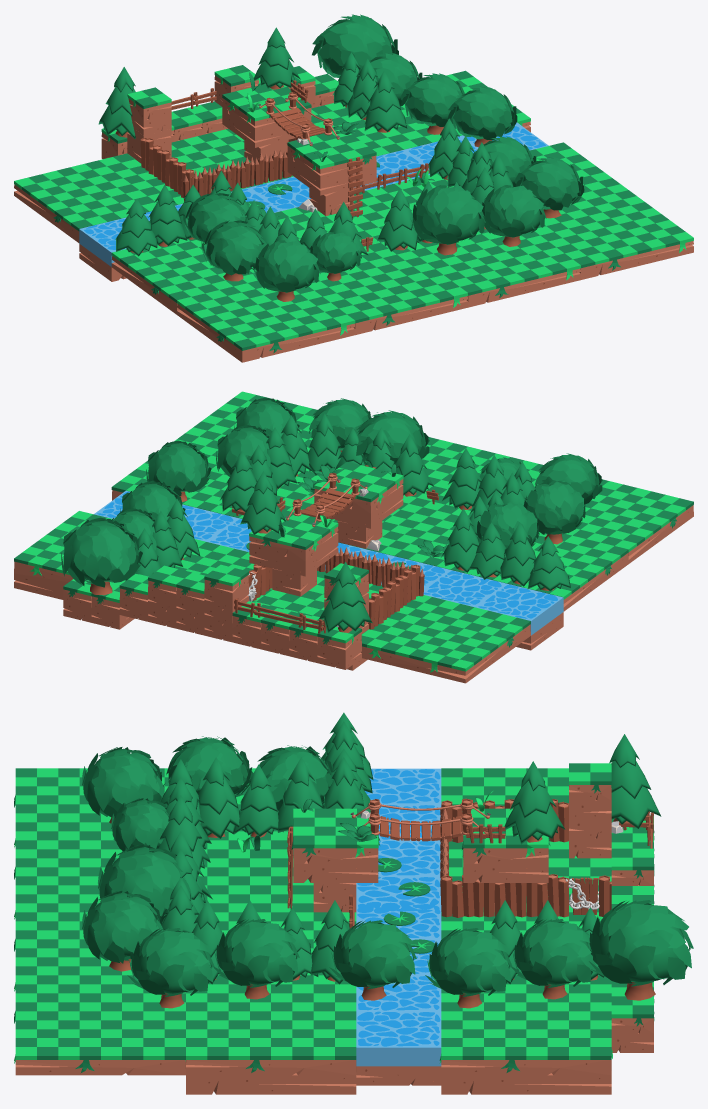
Rendered from tutorial-starter-level.fbx.
3 renders of one model, top to bottom at view 1: azimuth 30°, elevation 25°; view 2: azimuth 150°, elevation 25°; view 3: azimuth 270°, elevation 25°, orthographic. The views are drawn at different scales.
Parts seen in each view (by area): view 1: GroundGrass8.010, GroundGrass8.008, GroundGrass8.006, GroundGrass8.012, GroundGrass8.007, GroundGrass8.009, Water4.006, Tree1.004, Tree1.011, Tree1.009, Tree1.002, GroundGrass4.001 (+43 smaller); view 2: GroundGrass8.012, Water4.006, GroundGrass8.010, Tree1.011, GroundGrass8.001, GroundGrass8.009, GroundGrass4.002, Tree1.002, Tree1.008, GroundGrass8.011, GroundGrass8.008, GroundGrass4.001 (+61 smaller); view 3: Water4.006, GroundGrass8.005, GroundGrass8.008, GroundGrass8.011, Tree1.011, GroundGrass8.006, GroundGrass8.001, GroundGrass8.007, GroundGrass8.010, Tree1.003, Tree1.012, Tree1.002 (+54 smaller).
Part boxes in pixels (box(x1,y1,x2,y2)): GroundGrass8.010: box(177, 280, 355, 362); GroundGrass8.008: box(534, 190, 693, 279); GroundGrass8.006: box(309, 248, 467, 334); GroundGrass8.012: box(14, 153, 183, 242); GroundGrass8.007: box(407, 229, 580, 307); GroundGrass8.009: box(111, 238, 257, 314); Water4.006: box(79, 122, 548, 266); Tree1.004: box(410, 185, 485, 255); Tree1.011: box(312, 14, 398, 77); Tree1.009: box(251, 240, 320, 301); Tree1.002: box(447, 86, 517, 147); GroundGrass4.001: box(287, 130, 376, 180); GroundGrass8.012: box(360, 595, 530, 683); Water4.006: box(94, 490, 563, 635); GroundGrass8.010: box(565, 479, 693, 563); Tree1.011: box(61, 517, 142, 595); GroundGrass8.001: box(338, 495, 473, 569); GroundGrass8.009: box(450, 532, 628, 611); GroundGrass4.002: box(249, 509, 338, 561); Tree1.002: box(146, 440, 211, 501); Tree1.008: box(523, 481, 585, 544); GroundGrass8.011: box(14, 511, 125, 585); GroundGrass8.008: box(177, 391, 317, 452); GroundGrass4.001: box(314, 461, 403, 513); Water4.006: box(356, 768, 441, 1066); GroundGrass8.005: box(185, 984, 356, 1075); GroundGrass8.008: box(14, 984, 185, 1075); GroundGrass8.011: box(439, 984, 612, 1075); Tree1.011: box(587, 900, 693, 1000); GroundGrass8.006: box(14, 840, 126, 919); GroundGrass8.001: box(199, 840, 313, 912); GroundGrass8.007: box(14, 912, 136, 991); GroundGrass8.010: box(14, 768, 168, 847); Tree1.003: box(127, 928, 214, 1008); Tree1.012: box(425, 928, 512, 1008); Tree1.002: box(329, 920, 416, 1000).
Bounding box in the file's own units: 12870 × 12781 × 4025.
